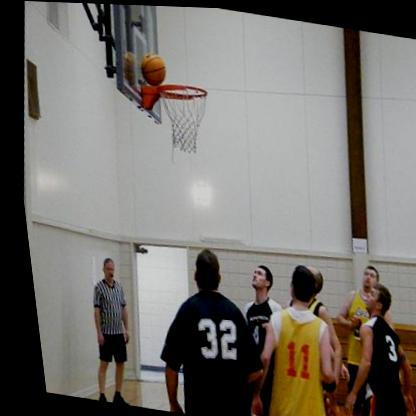basketball: (135, 48, 169, 88)
